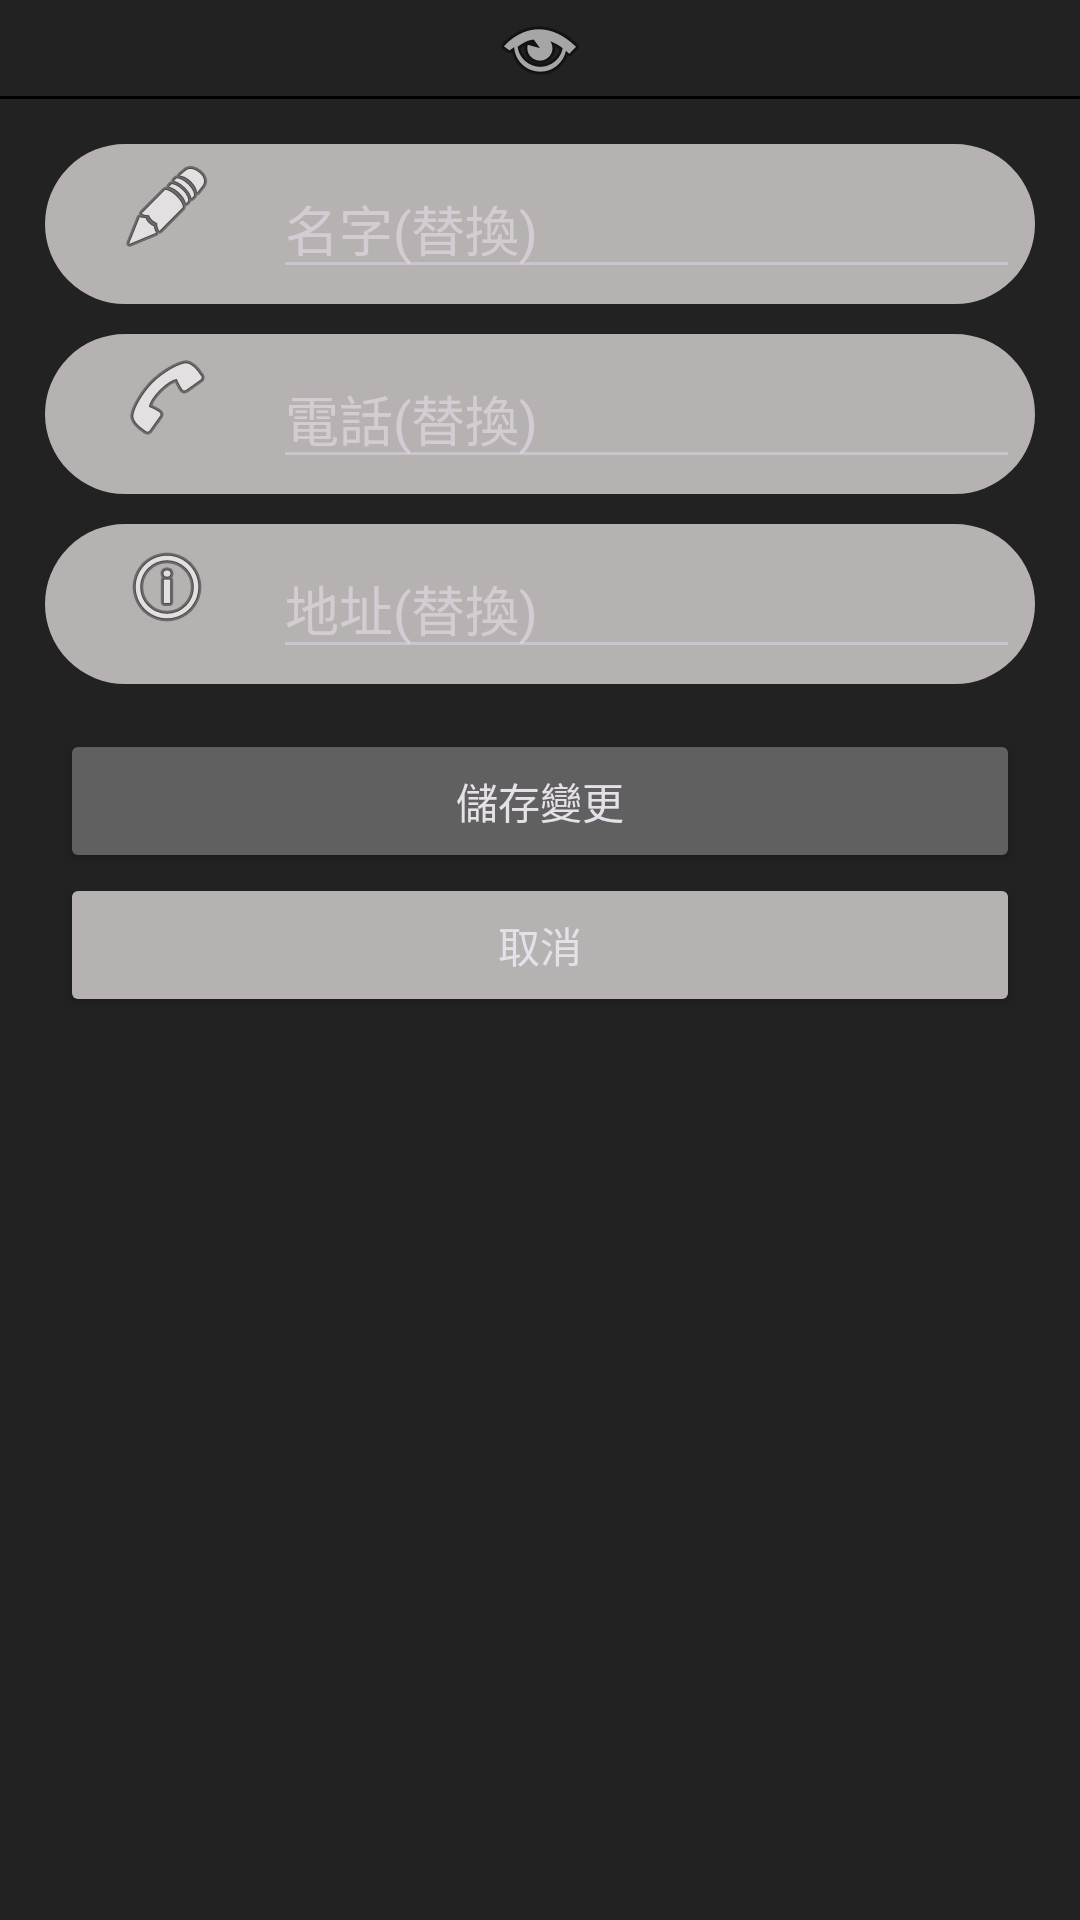

Where to tap for icons on this 1080*1920 app screen, as (x,y):
call: (167,397)
edit: (166,206)
info details: (167,587)
view: (540,50)
